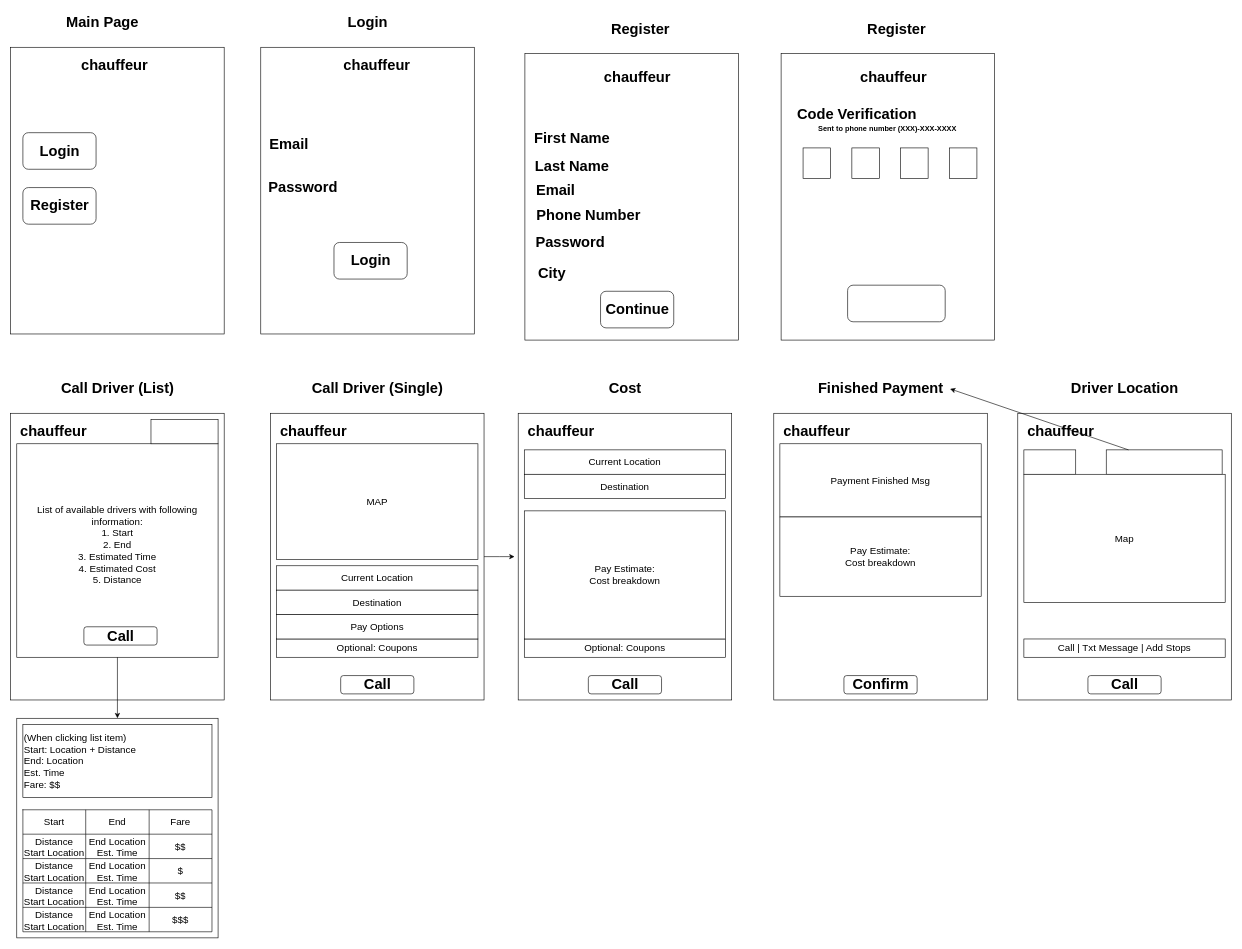
Some shapes in this 1242 by 949 pixel diagram are drawn without their labels. Here are the shapes that lost their labels. From the top down, the centre of each, then its label:
At (x=896, y=303): "Verify and Continue".
At (x=184, y=431): "Refresh List".
At (x=1049, y=461): "Status".
At (x=1164, y=461): "Cancel | Transaction Information".
